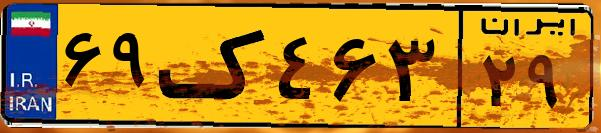2: (475, 38, 525, 113)
3: (385, 28, 445, 110)
4: (270, 28, 330, 110)
6: (330, 28, 385, 110), (57, 26, 110, 100)
9: (525, 38, 570, 115), (110, 28, 158, 98)
ک: (158, 12, 270, 120)
